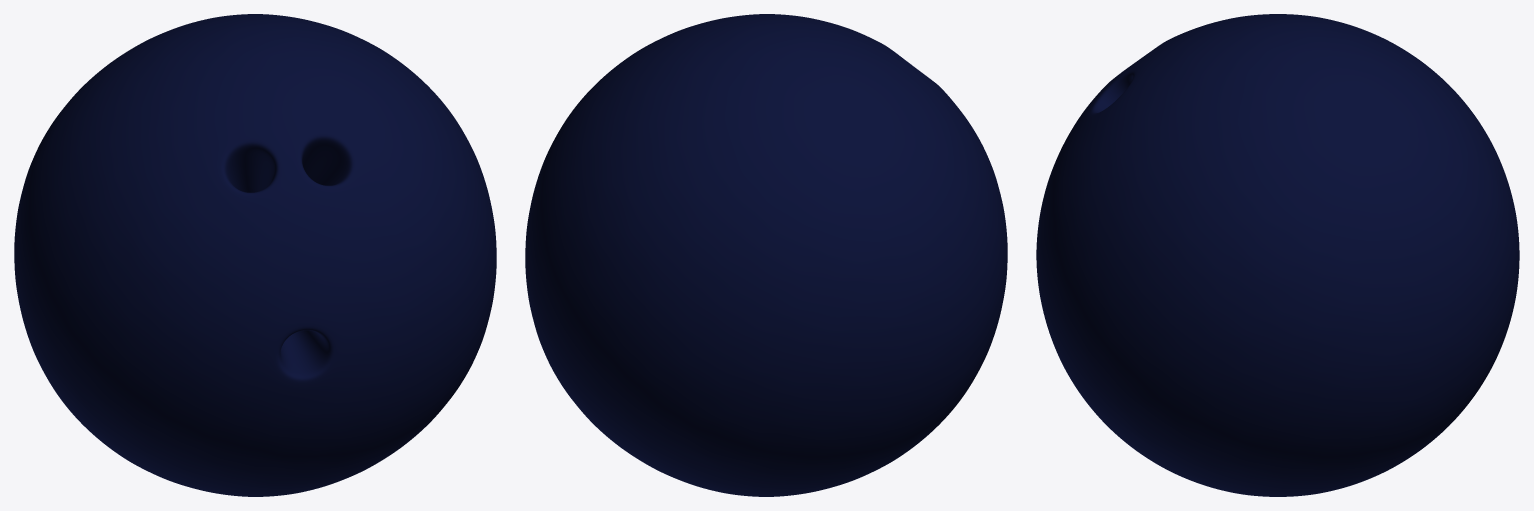
The model's file is BowlingBall_high.fbx.
3 renders of one model, left to right at view 1: azimuth 30°, elevation 25°; view 2: azimuth 150°, elevation 25°; view 3: azimuth 270°, elevation 25°, orthographic.
Parts seen in each view (by area): view 1: BowlingBall_high; view 2: BowlingBall_high; view 3: BowlingBall_high.
Part boxes in pixels (bbox=[...]): BowlingBall_high: bbox=[14, 14, 496, 496]; BowlingBall_high: bbox=[525, 14, 1007, 496]; BowlingBall_high: bbox=[1036, 14, 1519, 496].
Size of the model in its own units: 21.4 by 21.38 by 21.5.
